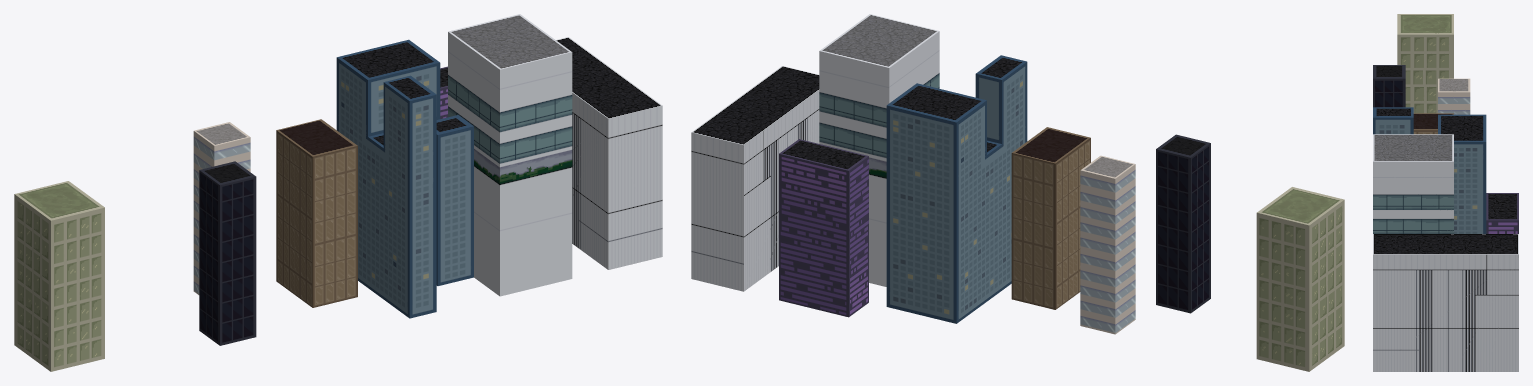
Rendered from Rooftop_Module_1.fbx.
The picture shows the model from 3 angles, left to right: view 1: azimuth 30°, elevation 25°; view 2: azimuth 150°, elevation 25°; view 3: azimuth 270°, elevation 25°; orthographic projection. The views are drawn at different scales.
Parts seen in each view (by area): view 1: Module_4; view 2: Module_4; view 3: Module_4.
Part boxes in pixels (x1,y1,x2,y2): Module_4: (14,14,662,371); Module_4: (691,14,1344,371); Module_4: (1373,14,1518,371).
Bounding box in the file's own units: 6600 × 2400 × 1800.
1 material, 1 textured.
